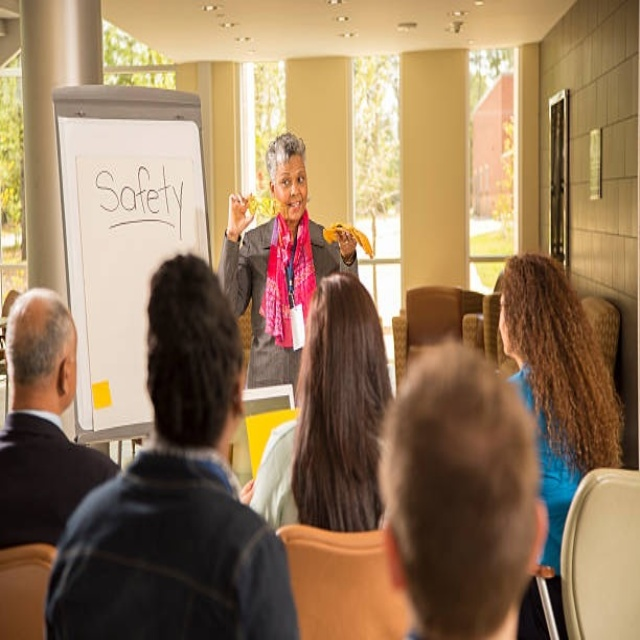Sin_gafas: (275, 169, 305, 190)
Sin_guantes: (225, 188, 261, 232)
Sin_mascara: (283, 196, 304, 218)
